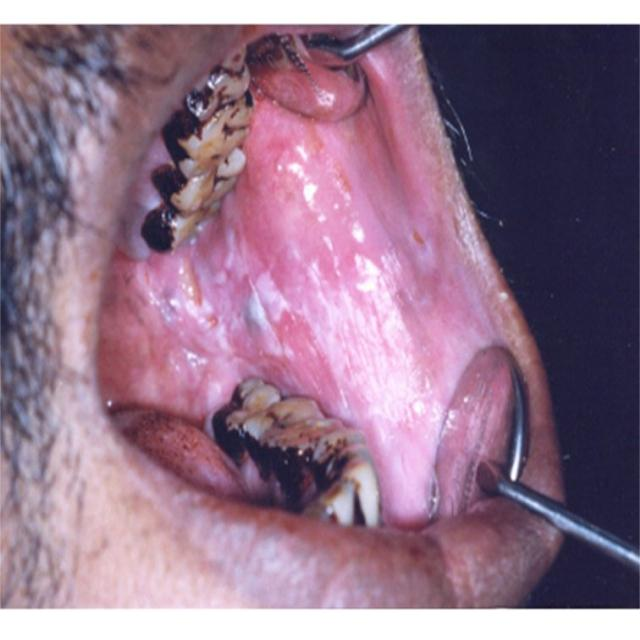leukoplakia-detection: (120, 188, 310, 415)
processing_area: (99, 57, 491, 532)
